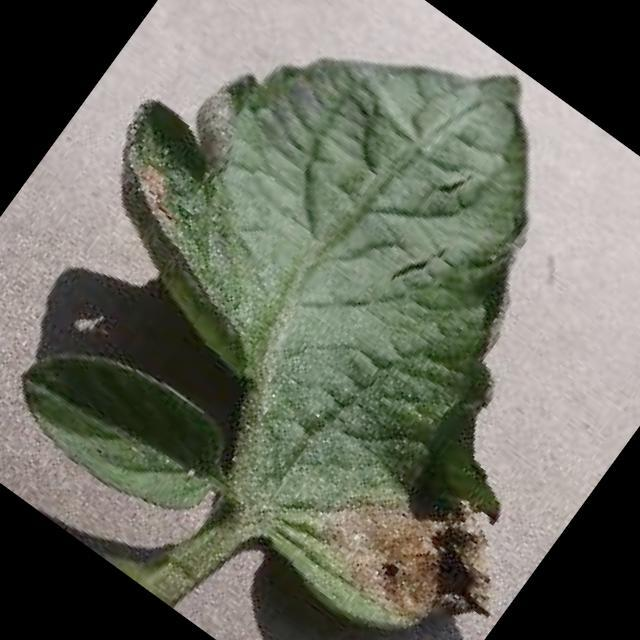Tomato healthy leaf: (0, 308, 250, 539)
Tomato late blight leaf: (0, 0, 640, 640)
